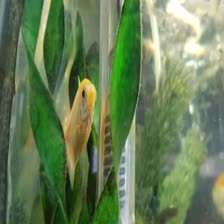Plano: (60, 72, 98, 180)
